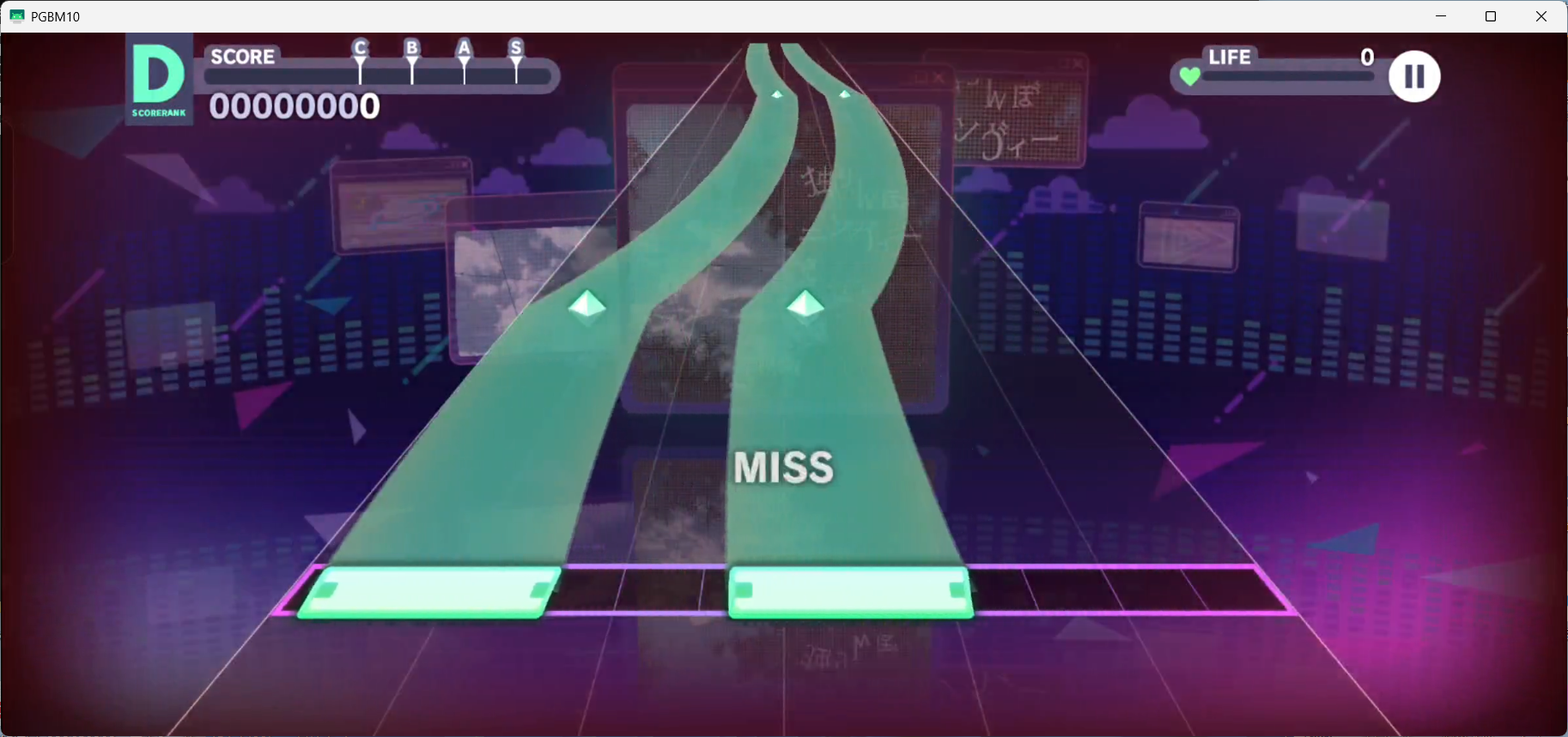hold: (327, 43, 799, 565), (726, 42, 963, 566)
sweep: (787, 290, 826, 329), (568, 292, 605, 328), (839, 89, 851, 100), (771, 90, 784, 99)
tap: (296, 565, 562, 620), (726, 565, 976, 619)
